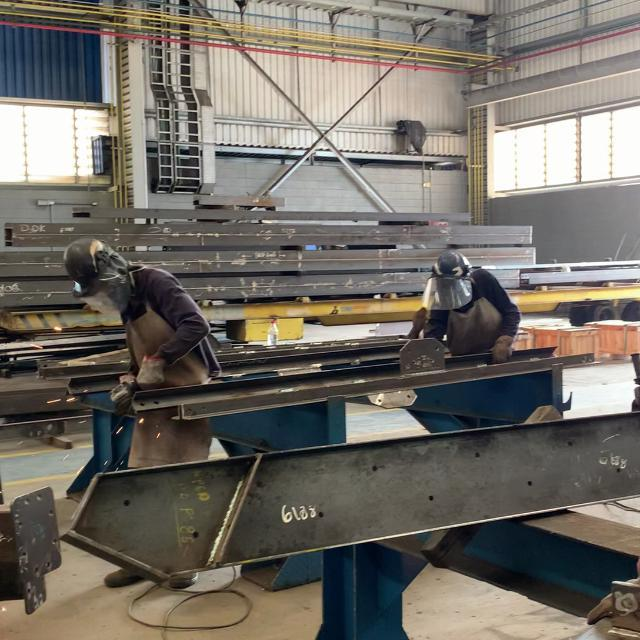eye-glass: (75, 282, 130, 318), (424, 279, 472, 309)
face-shield: (135, 352, 168, 385)
glove: (64, 238, 113, 278), (434, 249, 472, 275)
mask: (63, 239, 221, 384), (421, 249, 523, 363)
safety-shoe: (104, 565, 147, 588)
